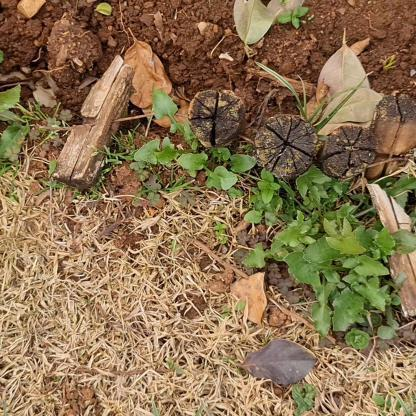Weeds: (134, 88, 415, 351), (269, 0, 313, 30)
